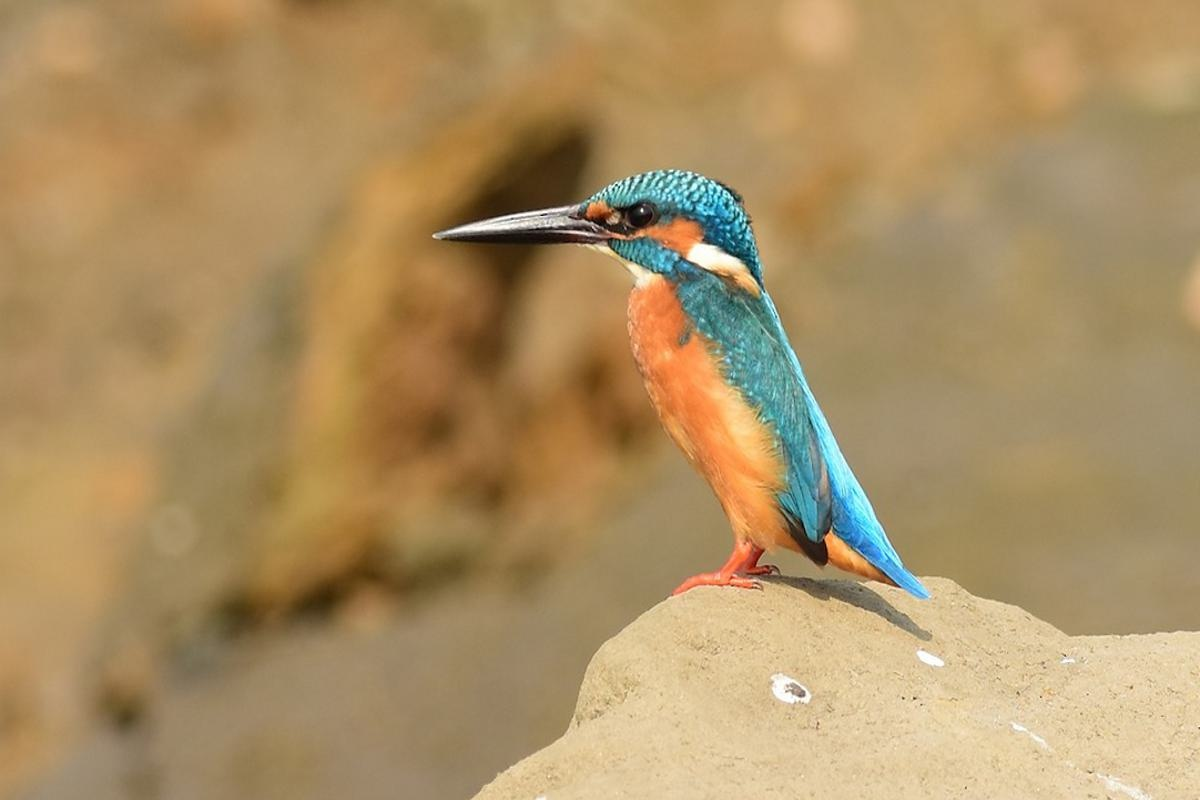kingfisher: (419, 156, 952, 656)
